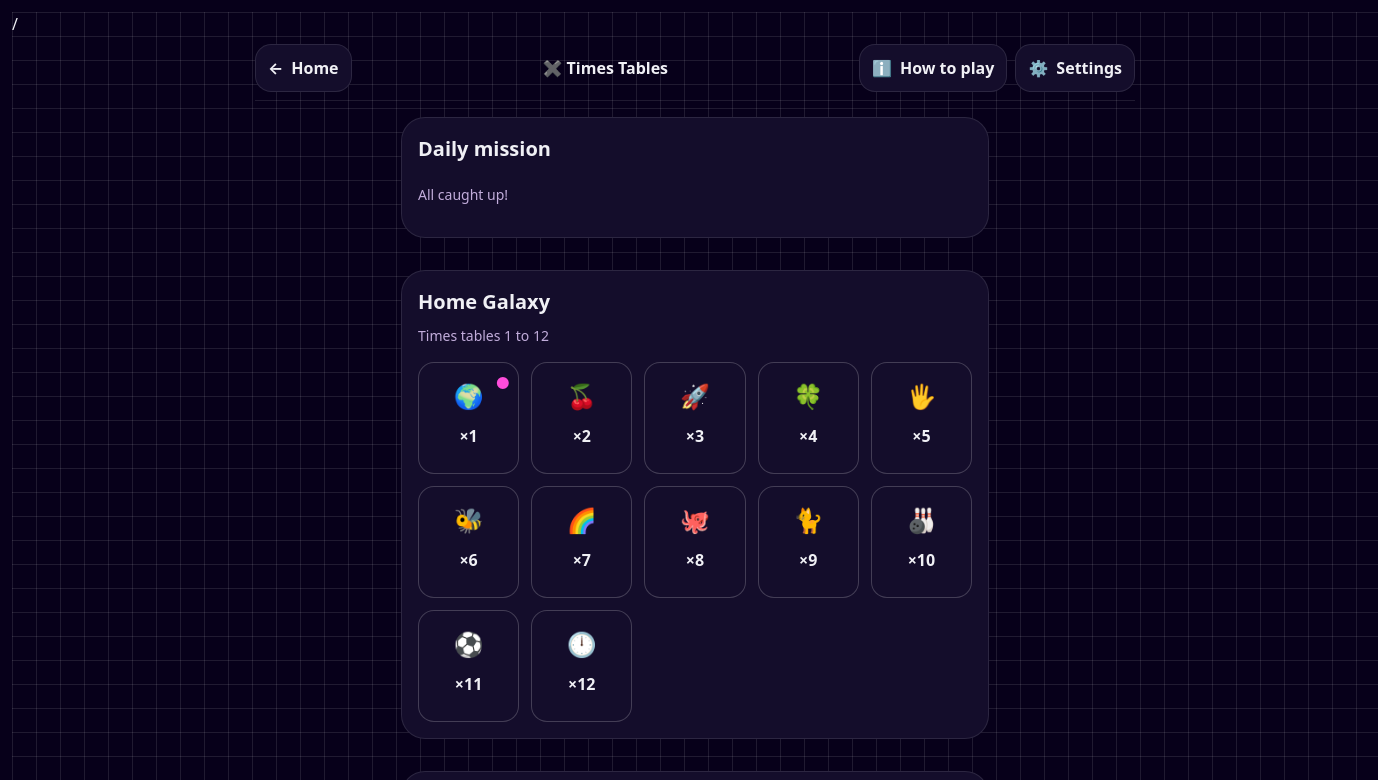
Test: TimesTablesPage › reaches settings from the star map
The image size is (1378, 780).
Click the button "⚙️ Settings" at (1075, 68), box [1015,44,1135,92]
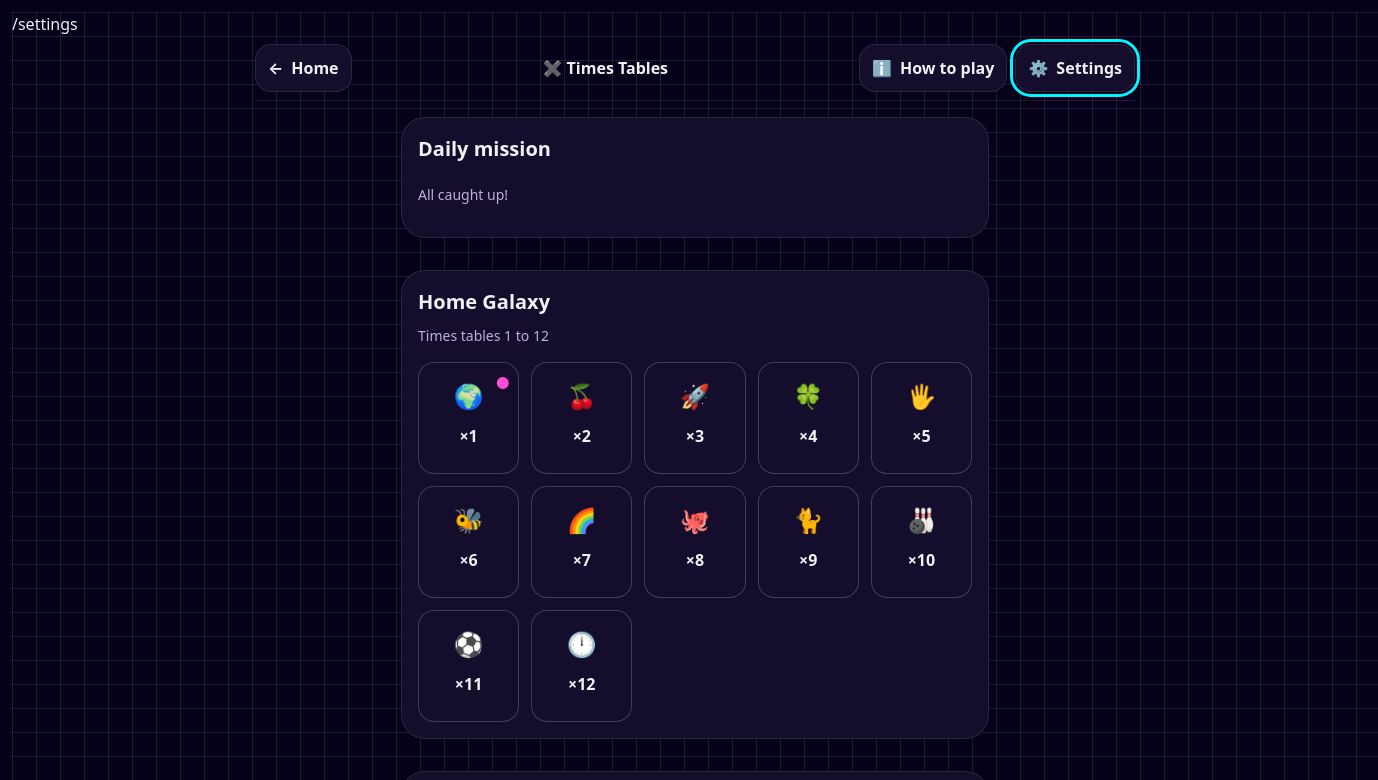
Expected: the text with test id "test-location" reads "/settings", [12,13,78,35]
